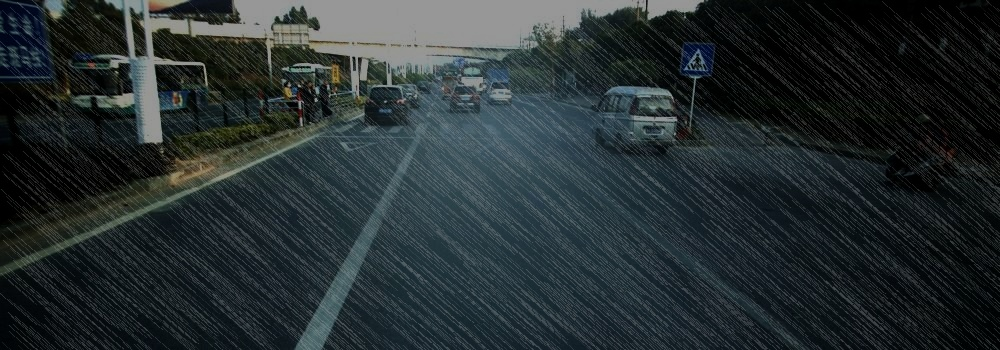Informative Signs: (678, 38, 717, 79)
